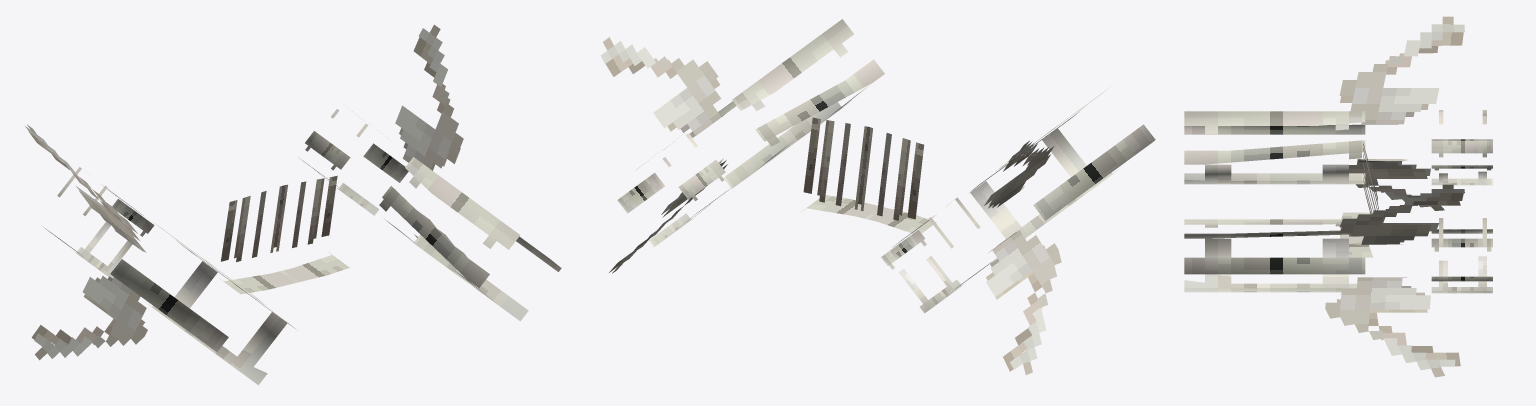
The model's file is awing_engine_s02_l3.fbx.
3 views of the same model, side by side, from view 1: azimuth 30°, elevation 25°; view 2: azimuth 150°, elevation 25°; view 3: azimuth 270°, elevation 25° (orthographic). The views are drawn at different scales.
Parts seen in each view (by area): view 1: mesh_node; view 2: mesh_node; view 3: mesh_node.
Boxes of the visible parts, box(x1,y1,x2,y2) form: mesh_node: box(24, 24, 561, 385); mesh_node: box(600, 19, 1155, 374); mesh_node: box(1184, 16, 1492, 377).
Bounding box in the file's own units: 7.85 × 4.36 × 6.45.
Materials: 1 (1 with a texture image).
